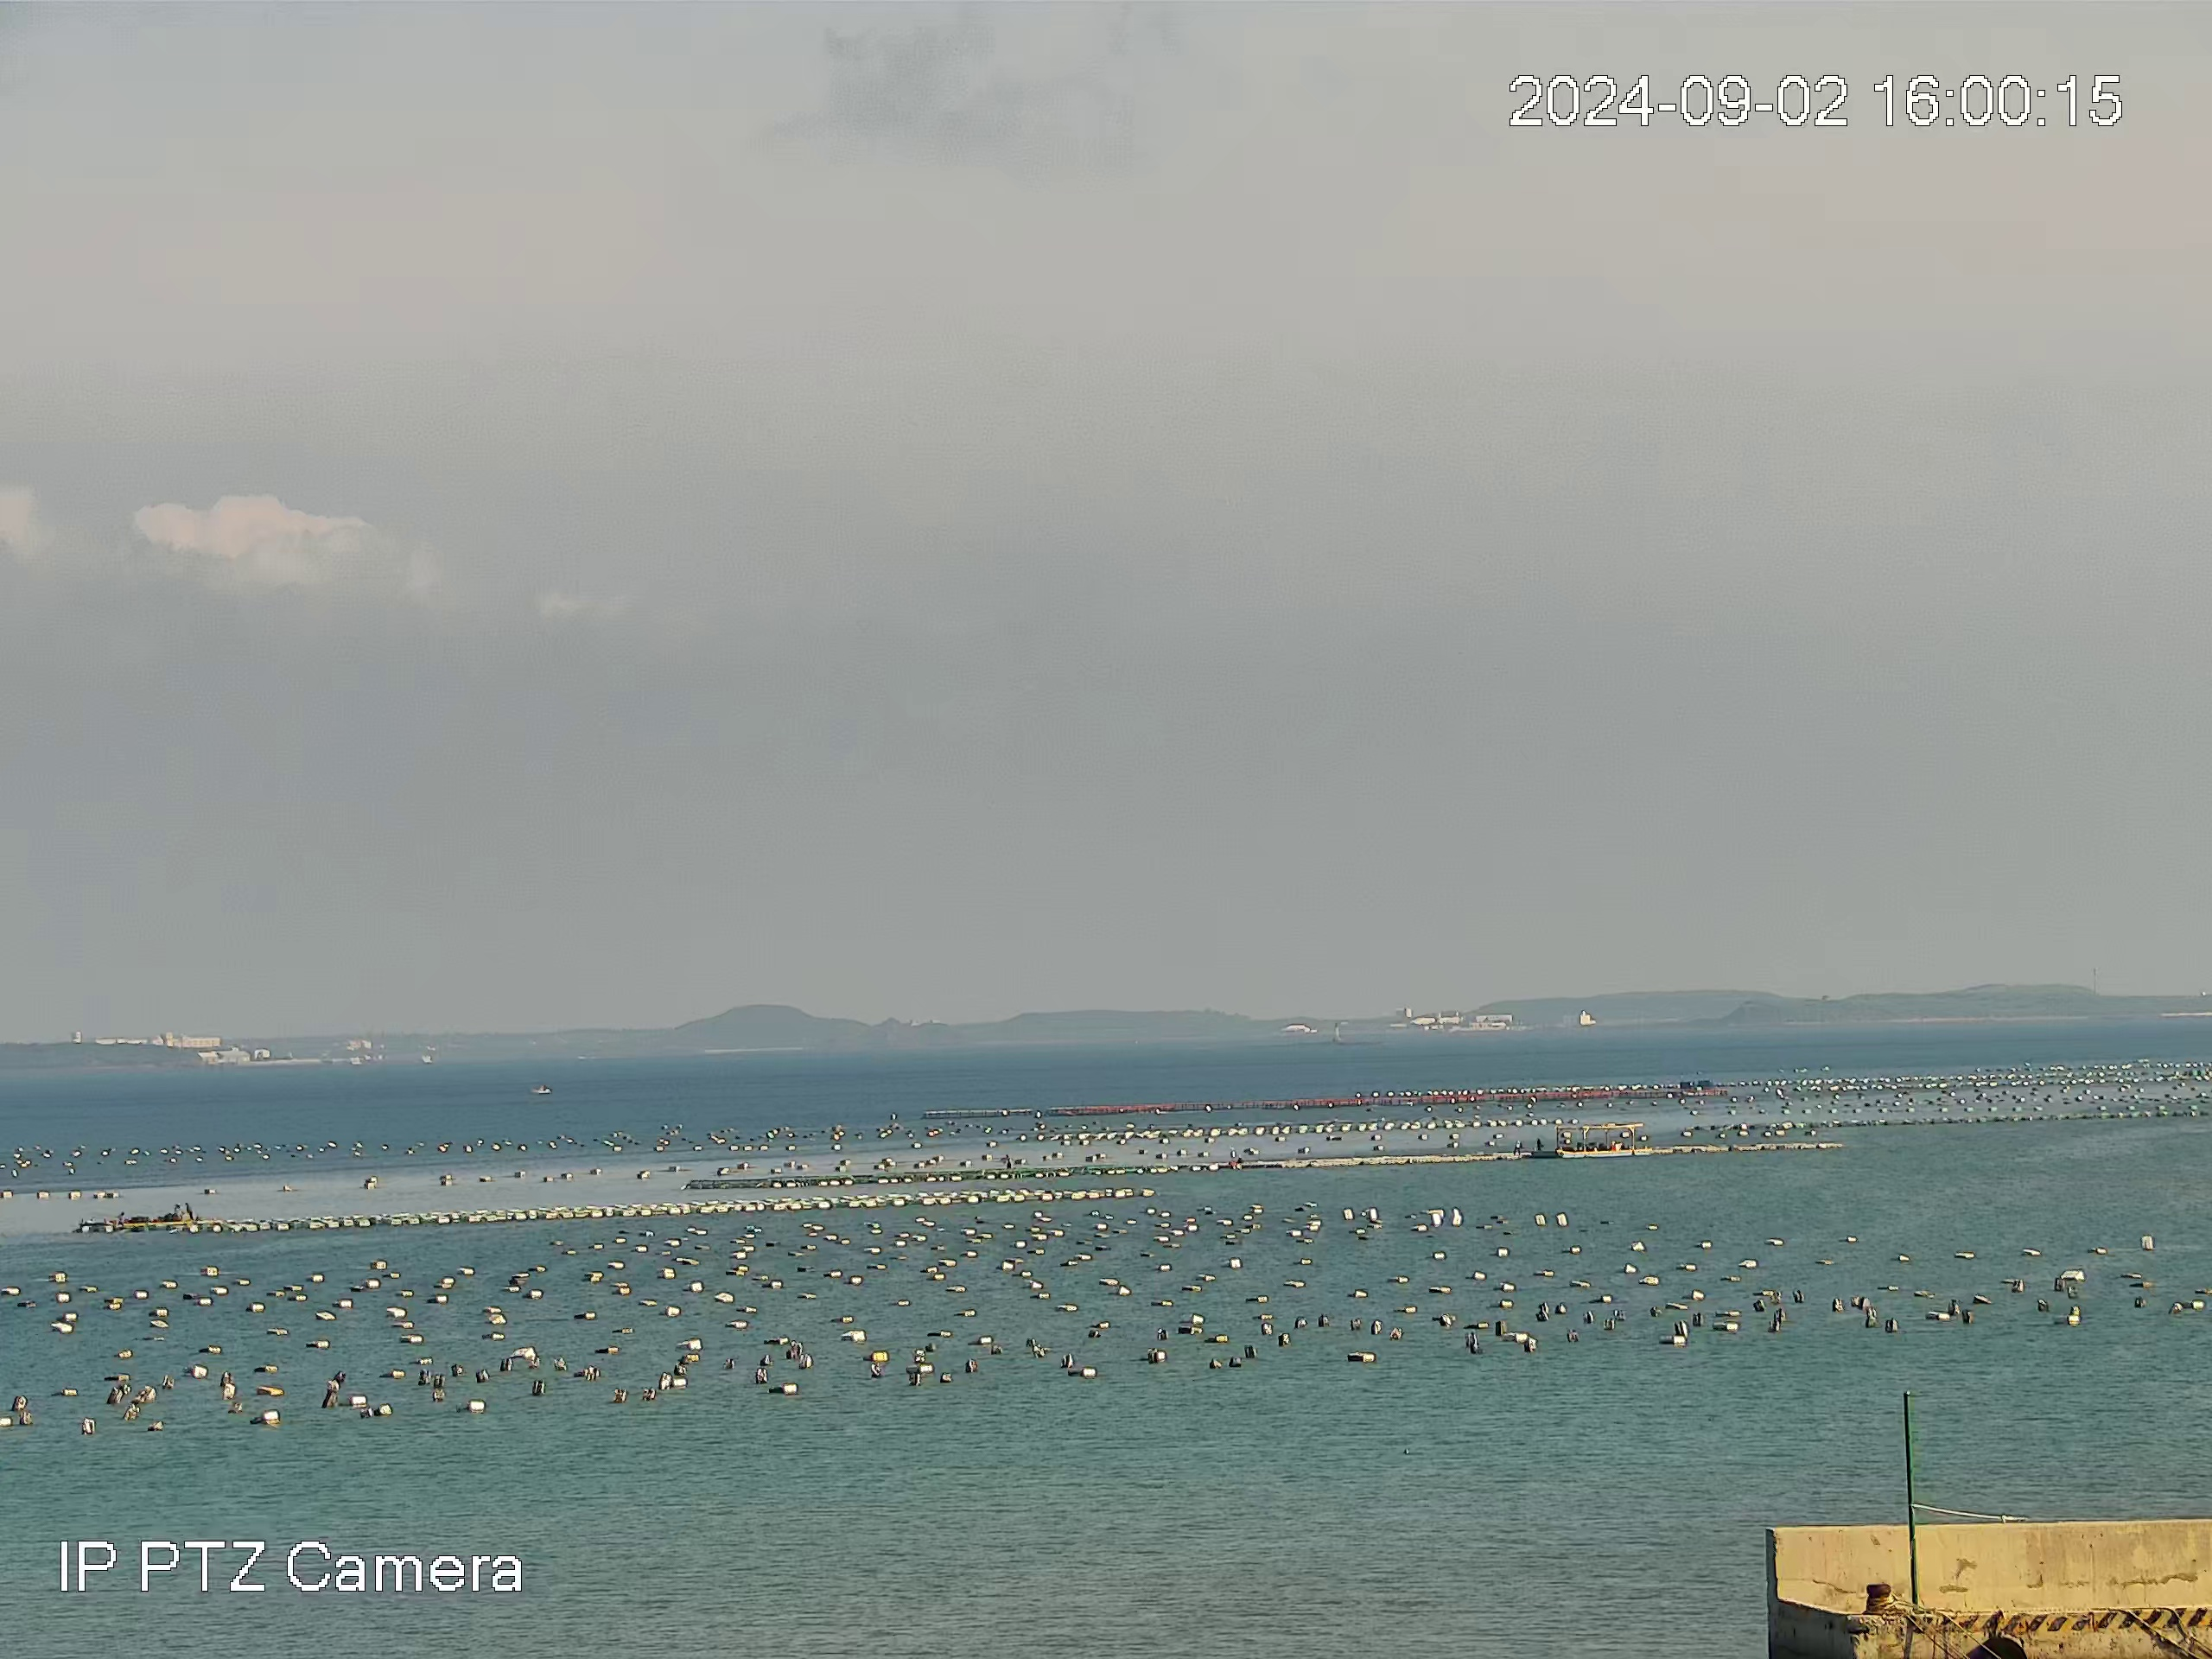boat: (1554, 1122, 1655, 1159), (103, 1202, 223, 1227), (529, 1082, 552, 1096)
